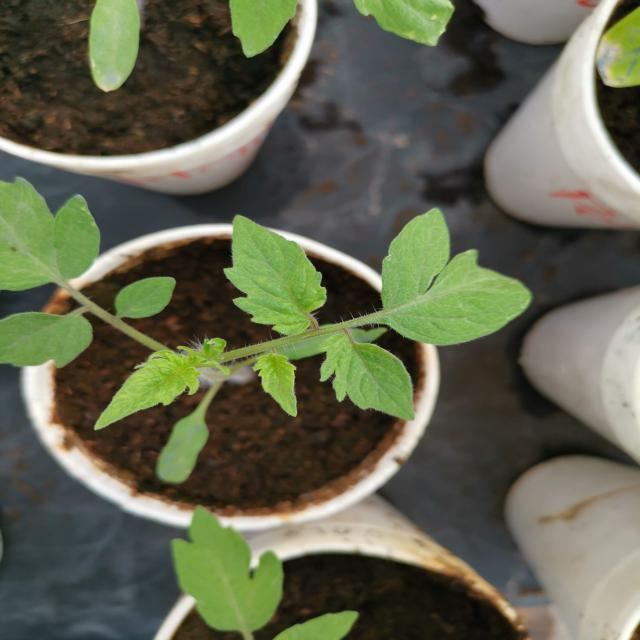T_L_R: (386, 251, 531, 346), (94, 338, 232, 431), (224, 214, 328, 337), (1, 176, 101, 292), (317, 334, 416, 421), (383, 210, 451, 311), (1, 314, 93, 369), (355, 1, 455, 47), (230, 1, 300, 59), (253, 354, 298, 418), (115, 278, 177, 319)
